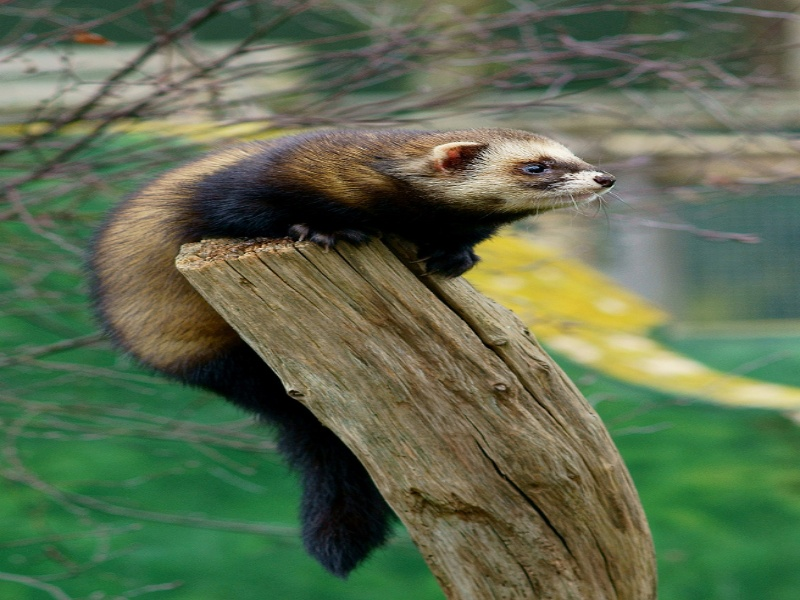minkish: (87, 119, 613, 578)
